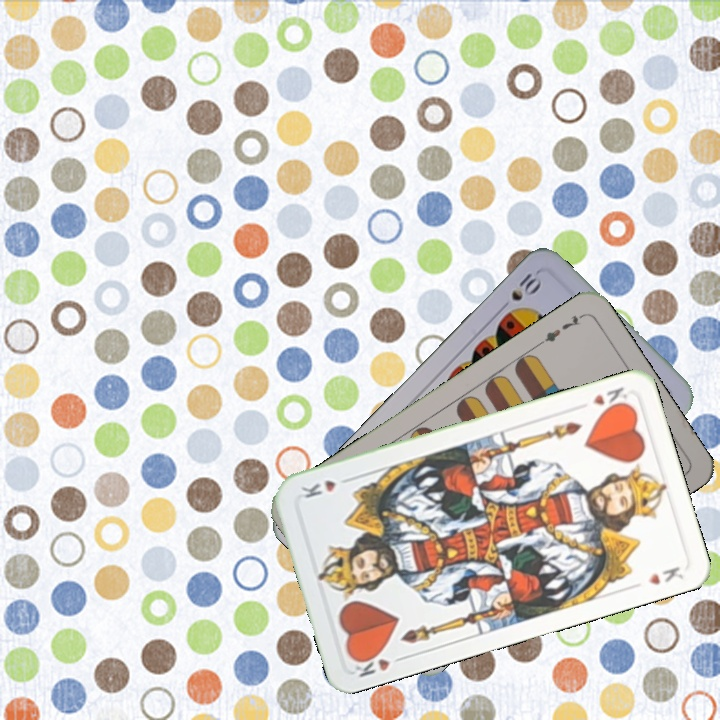E7: (534, 310, 587, 348)
HK: (349, 647, 409, 680), (588, 383, 632, 414)
S10: (495, 268, 545, 314)
